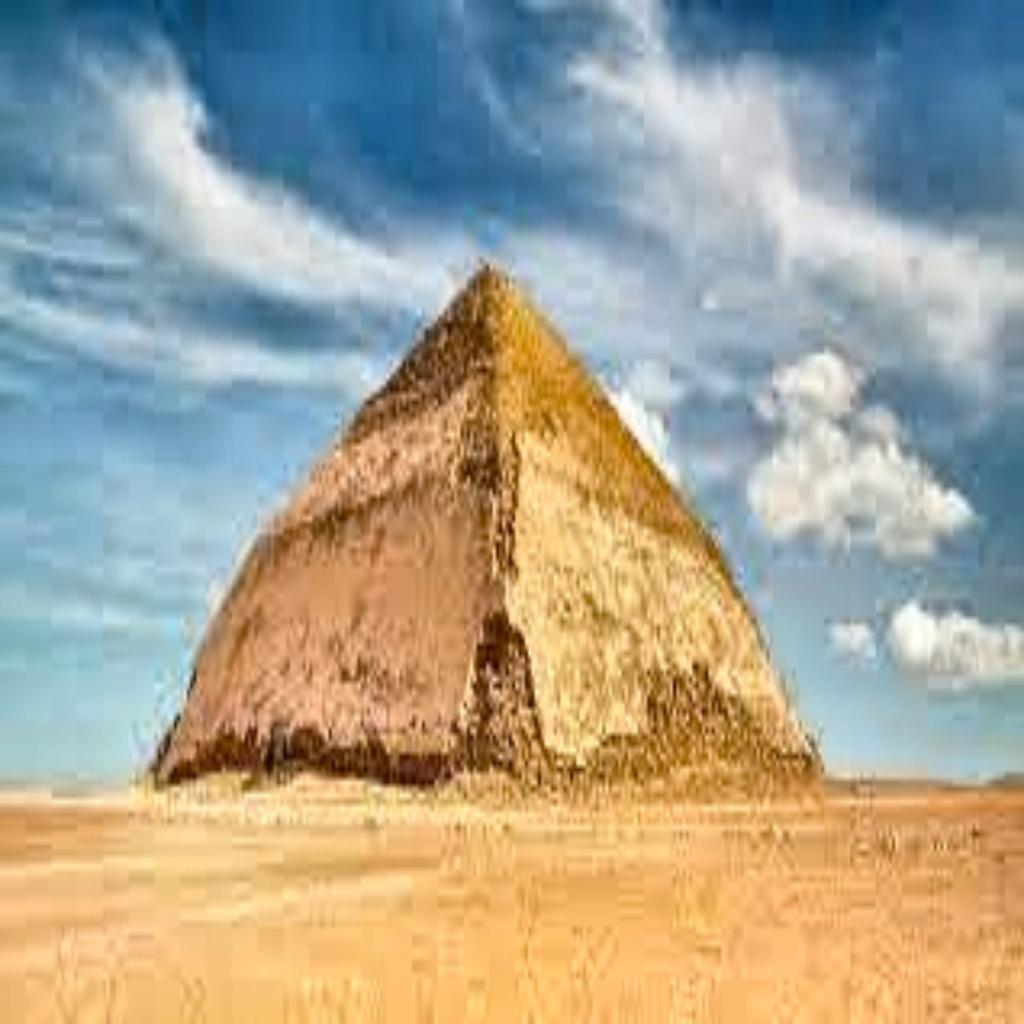Bent Pyramid of King Sneferu: (138, 245, 824, 805)
